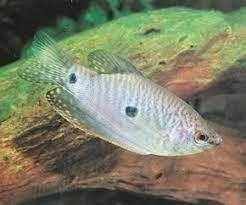Gourami: (15, 29, 223, 156)
